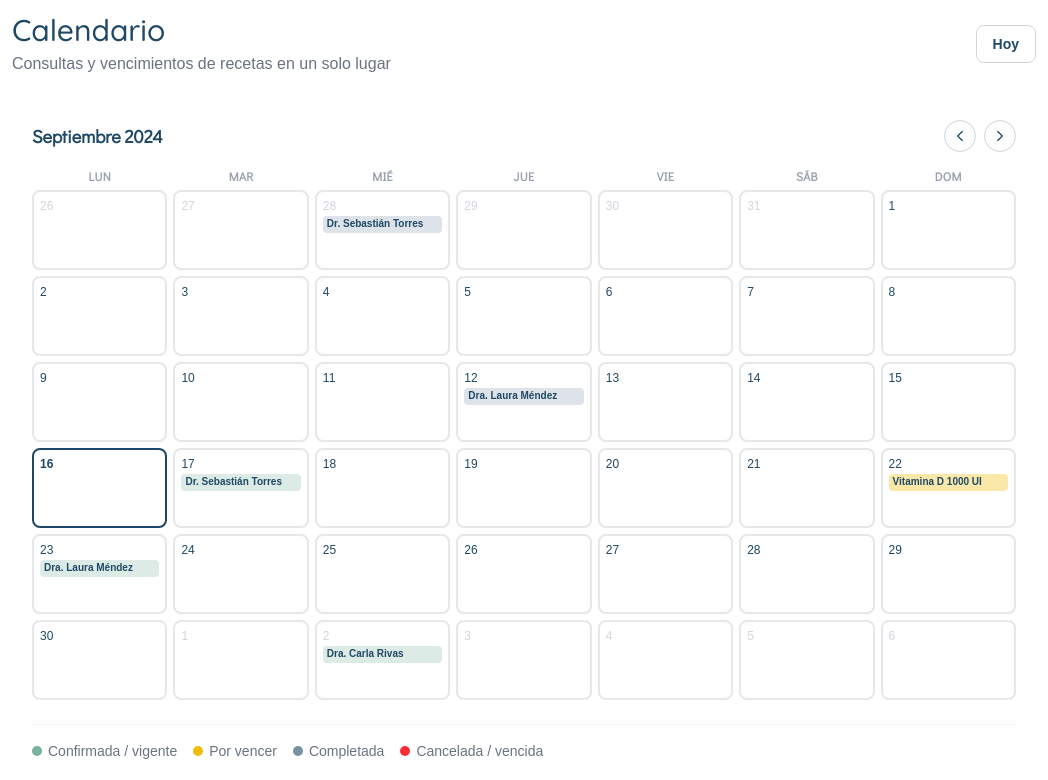
Scenario: CalendarioPage › clicking 'Mes siguiente' advances the calendar to October 2024
The image size is (1048, 780).
Check: the text "Septiembre 2024" is shown, box [32,122,162,150]
Click the button named "mes siguiente" at (1000, 136), box [984,120,1016,152]
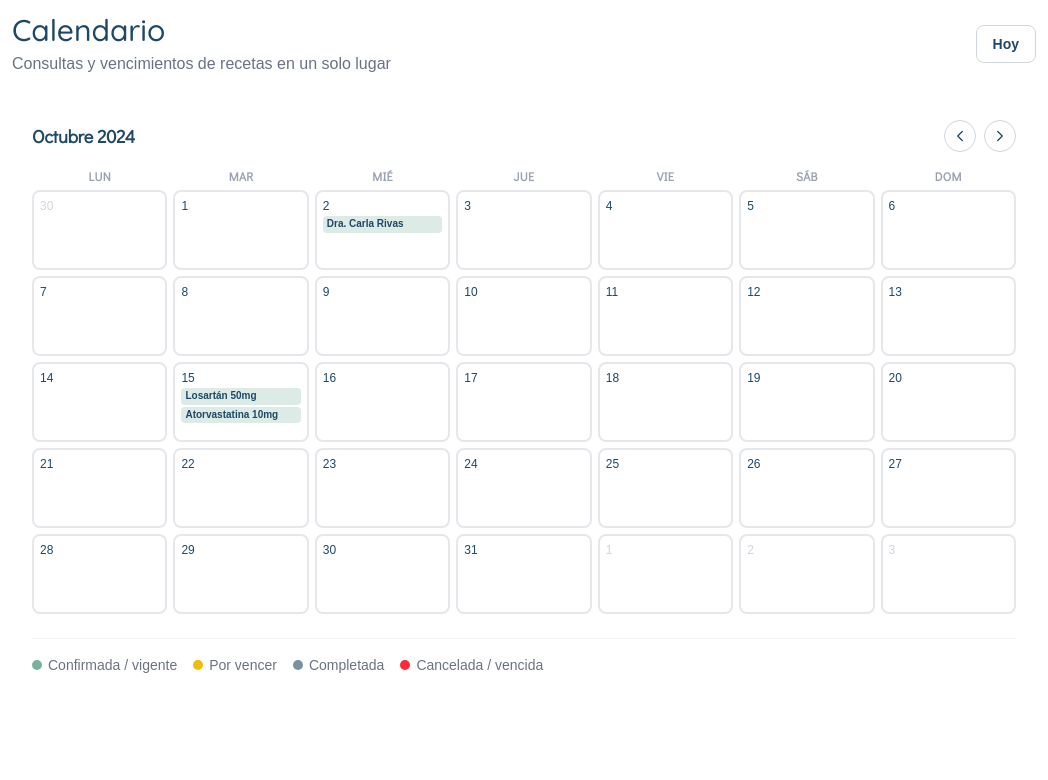
Check: the text "Octubre 2024" is shown, box [32,122,135,150]
